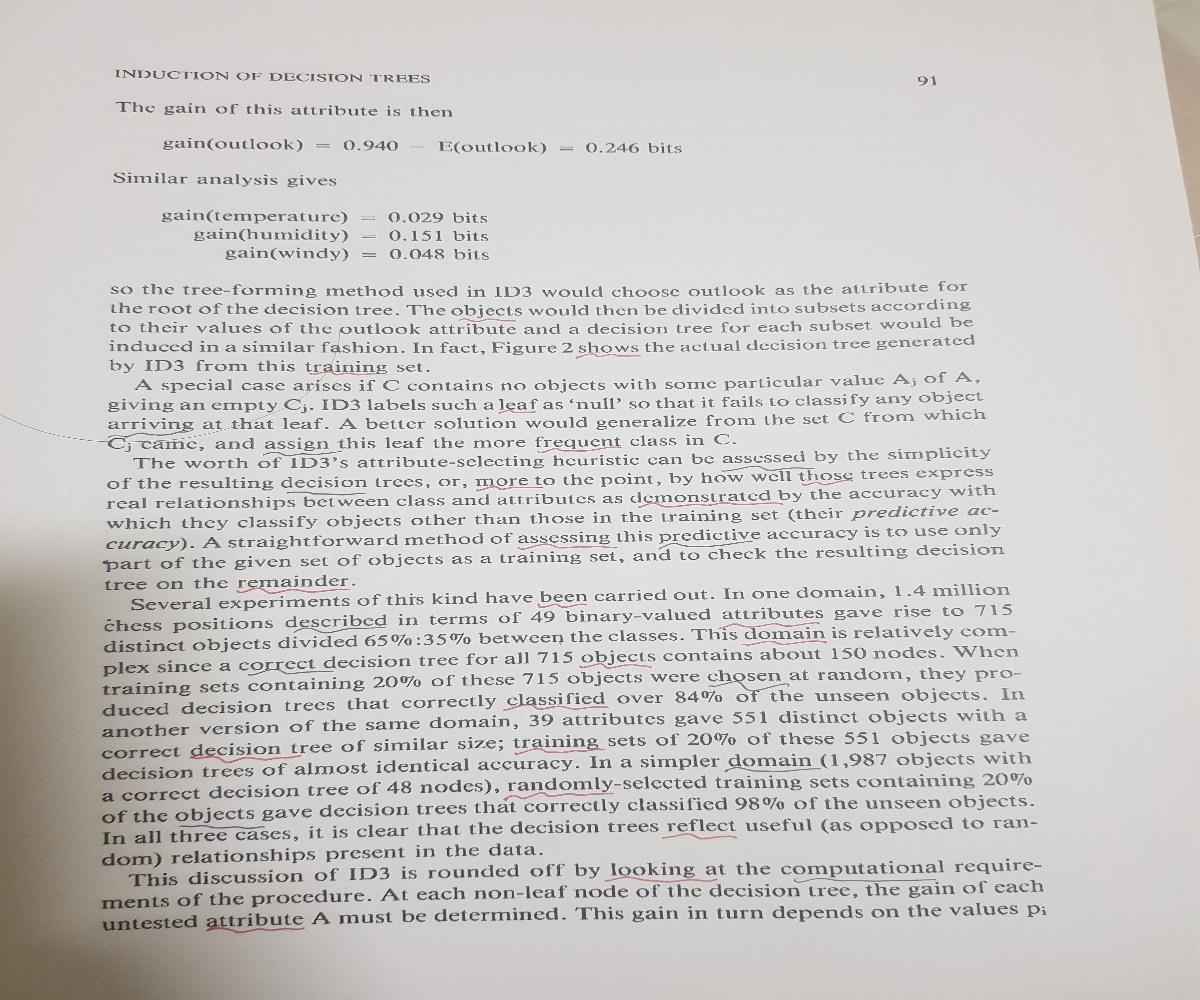underline: (790, 874, 940, 885), (231, 585, 353, 596), (723, 762, 823, 775), (603, 874, 720, 885), (500, 790, 613, 801), (189, 754, 301, 765), (636, 502, 783, 510), (658, 830, 742, 843), (513, 541, 618, 551), (202, 924, 304, 934), (705, 681, 793, 692), (511, 746, 606, 756), (105, 429, 191, 440), (655, 540, 760, 549), (287, 626, 389, 635), (178, 822, 268, 832), (499, 703, 610, 711), (283, 487, 366, 497), (245, 668, 333, 677), (308, 369, 387, 379), (716, 622, 824, 629), (740, 638, 833, 646), (575, 662, 657, 671), (536, 445, 625, 453), (261, 449, 345, 457), (574, 350, 641, 360), (474, 485, 546, 494), (534, 599, 588, 611), (799, 478, 854, 489), (456, 315, 520, 324), (720, 464, 816, 470), (496, 407, 540, 417)
